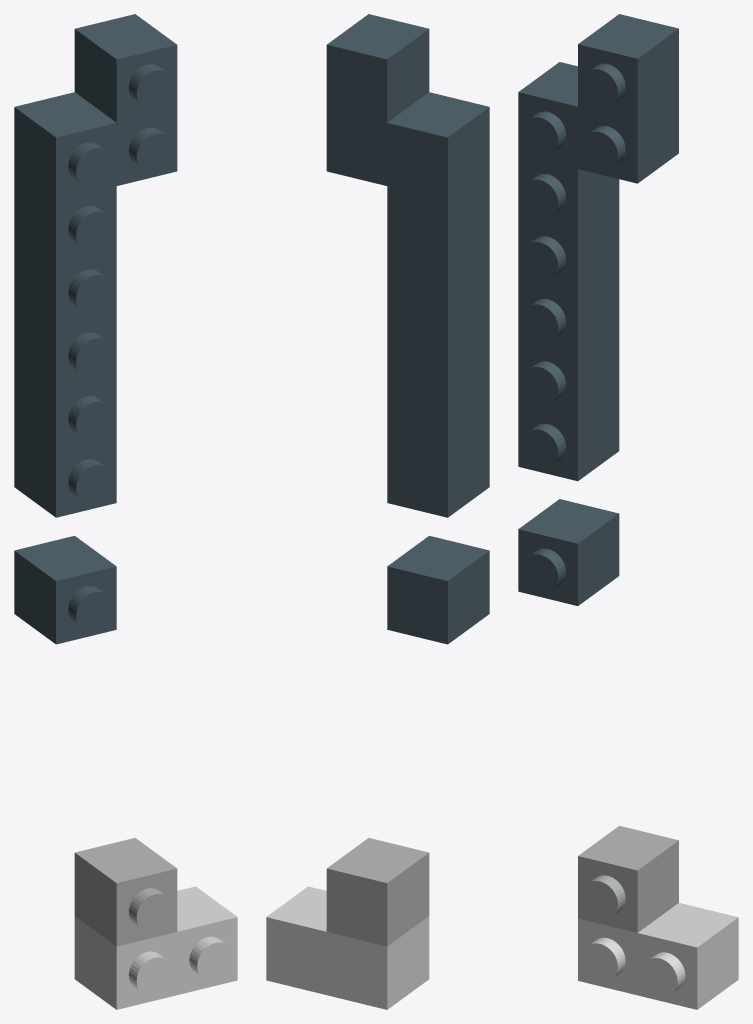
File: current.glb
The picture shows the model from 3 angles, left to right: view 1: azimuth 30°, elevation 25°; view 2: azimuth 150°, elevation 25°; view 3: azimuth 330°, elevation 25°; orthographic projection.
Parts seen in each view (by area): view 1: world; view 2: world; view 3: world.
Part boxes in pixels (x1,y1,x2,y2): world: [14, 14, 237, 1009]; world: [266, 14, 489, 1009]; world: [518, 14, 738, 1009].
Bounding box in the file's own units: 24 × 120 × 11.4.
